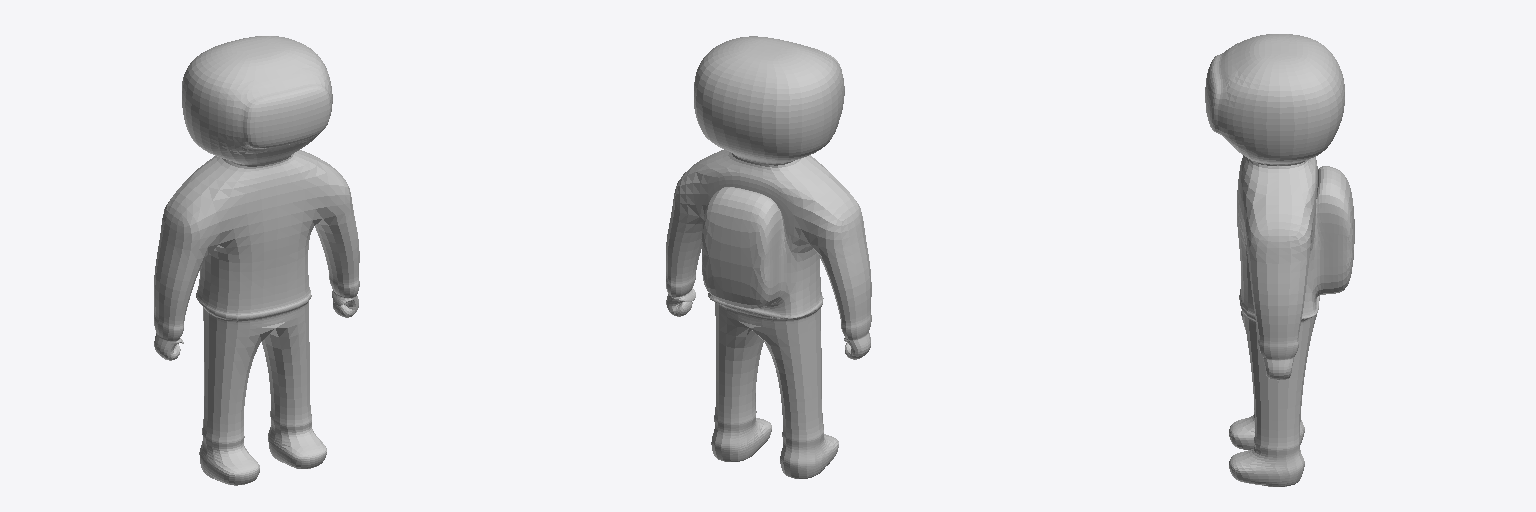
Rendered from space_man.obj.
3 renders of one model, left to right at view 1: azimuth 30°, elevation 25°; view 2: azimuth 150°, elevation 25°; view 3: azimuth 270°, elevation 25°, orthographic.
Parts seen in each view (by area): view 1: Cube; view 2: Cube; view 3: Cube.
Boxes of the visible parts, <box> form: Cube: <box>154,36,359,485</box>; Cube: <box>666,36,871,478</box>; Cube: <box>1205,34,1354,486</box>.
Size of the model in its own units: 2.56 by 5.11 by 1.67.